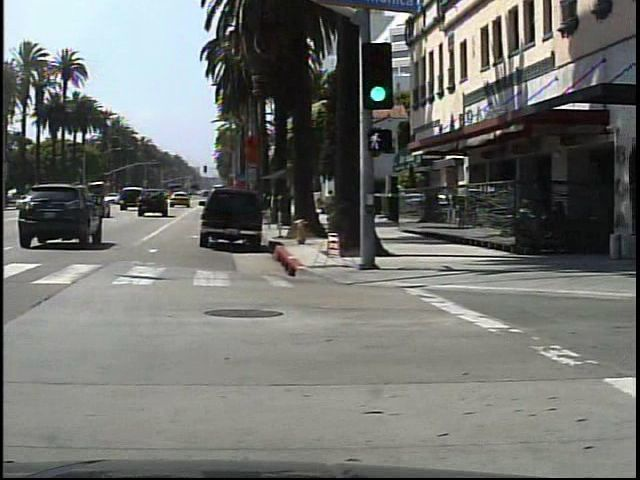person: (325, 184, 338, 226)
